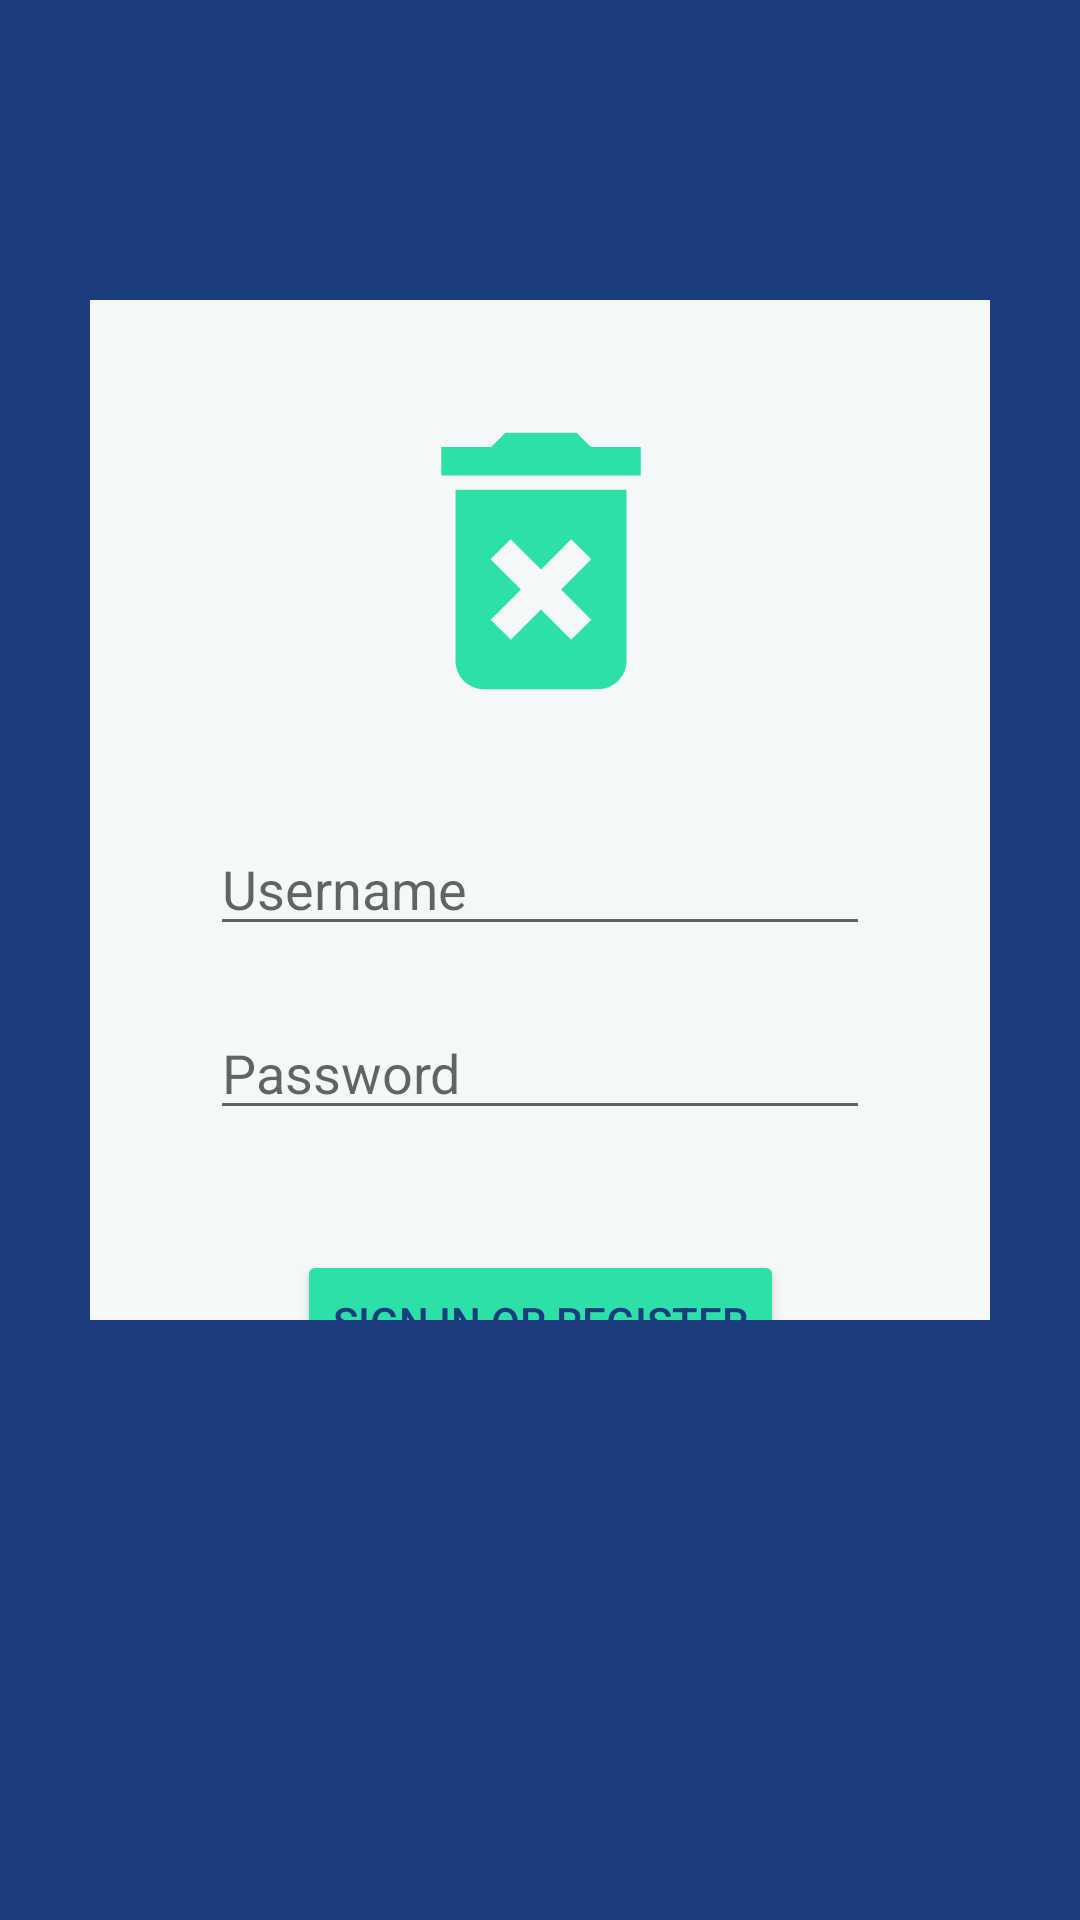

Locate icon controls on the screen. Image size 1080 × 1920, boxes as [left=x1, top=y1, right=x2, bottom=y2].
delete forever: [left=441, top=432, right=641, bottom=690]
